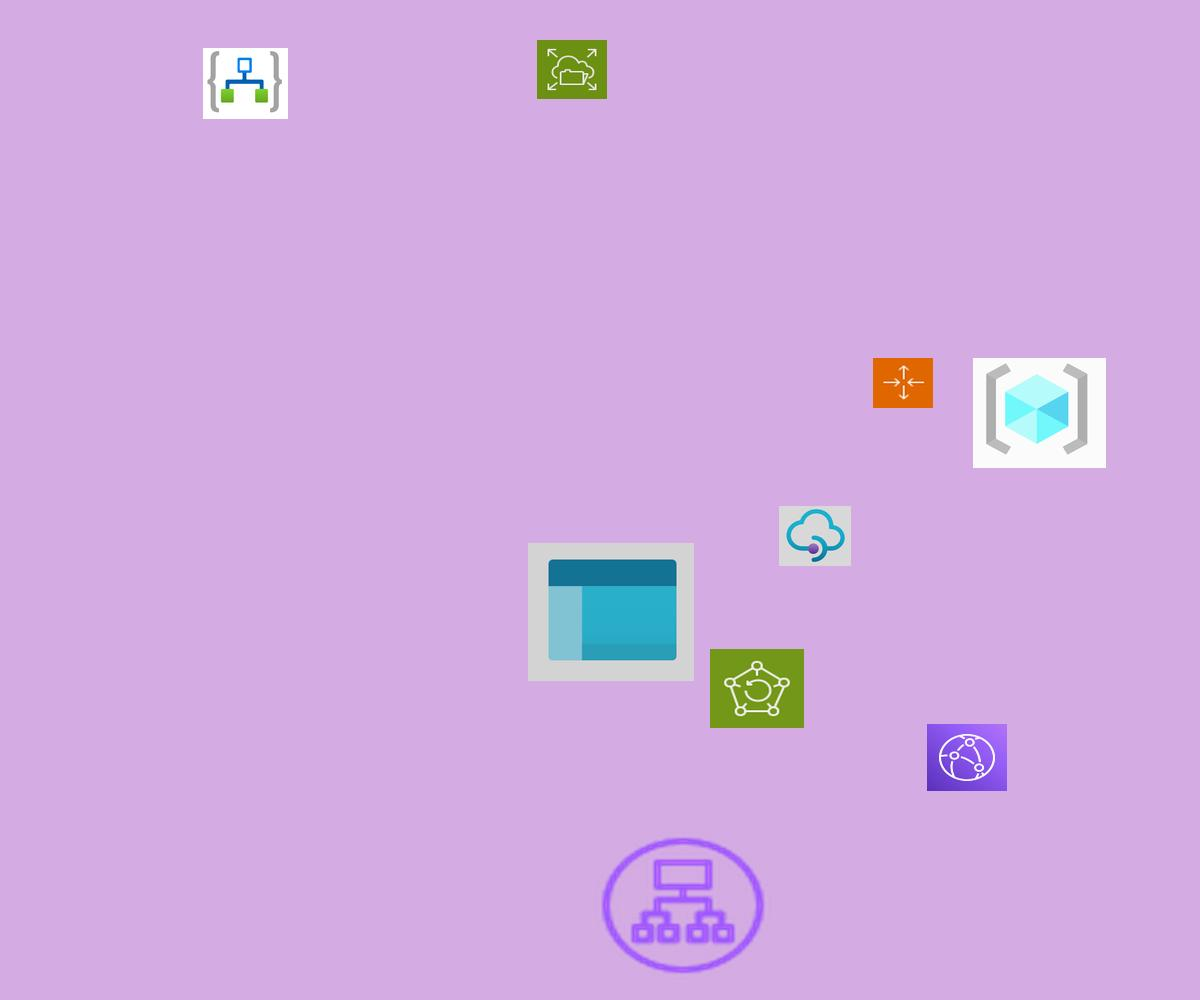AWS-Backup: (710, 649, 804, 728)
AWS-CloudFront: (927, 724, 1007, 791)
AWS-EFS: (537, 40, 607, 99)
AWS-Res_Elastic-Load-Balancing_Application-Load-Balancer: (595, 832, 771, 979)
AWS-Scaling-group: (873, 358, 933, 408)
Azure_api_gateway: (779, 506, 851, 566)
Azure_integration-204-Logic-Apps: (203, 48, 288, 119)
Azure_management-portal: (528, 543, 694, 681)
Azure_resource_group: (973, 358, 1106, 468)
